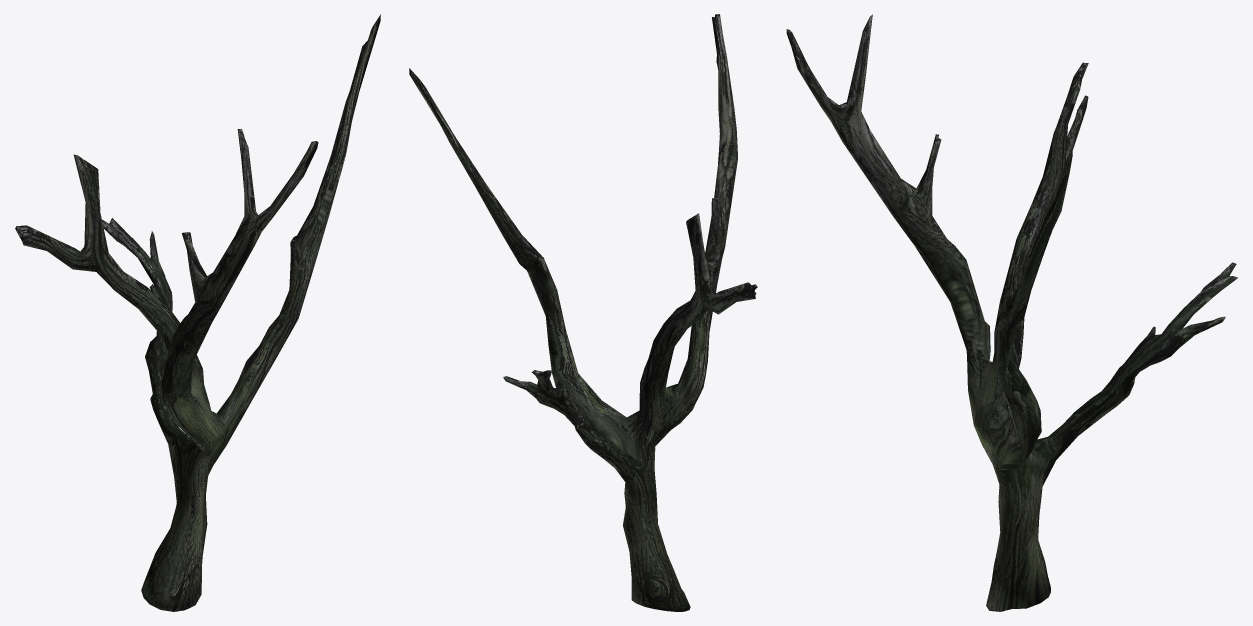
File: Mud_Tree_005.fbx
3 renders of one model, left to right at view 1: azimuth 30°, elevation 25°; view 2: azimuth 150°, elevation 25°; view 3: azimuth 270°, elevation 25°, orthographic. The views are drawn at different scales.
Parts seen in each view (by area): view 1: Mud_Tree_005_LOD0; view 2: Mud_Tree_005_LOD0; view 3: Mud_Tree_005_LOD0.
Boxes of the visible parts, bbox=[...] form: Mud_Tree_005_LOD0: bbox=[15, 14, 380, 611]; Mud_Tree_005_LOD0: bbox=[409, 14, 757, 611]; Mud_Tree_005_LOD0: bbox=[786, 14, 1237, 611].
Size of what is drawn, in the model's own units: 916 by 1268 by 866.
Materials: 1 (1 with a texture image).
